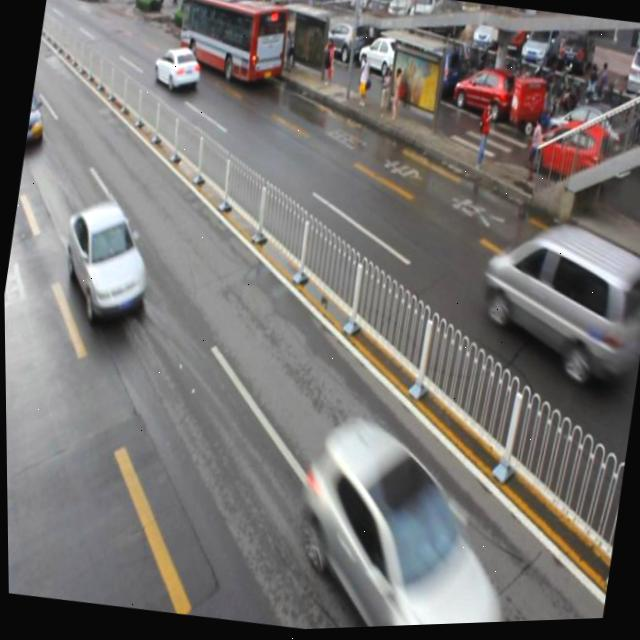car: (283, 411, 529, 632), (54, 192, 159, 328), (152, 43, 204, 97), (24, 86, 50, 155)
truck: (472, 214, 640, 394)
van: (172, 0, 291, 90)
